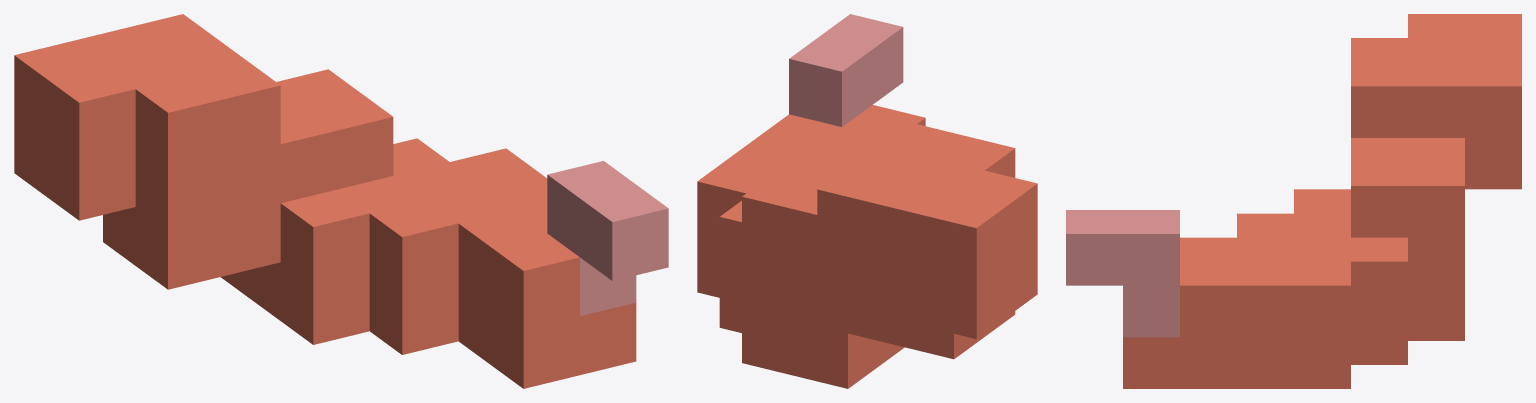
The model's file is octopus__arm_2.glb.
3 views of the same model, side by side, from view 1: azimuth 30°, elevation 25°; view 2: azimuth 150°, elevation 25°; view 3: azimuth 270°, elevation 25° (orthographic). The views are drawn at different scales.
Parts seen in each view (by area): view 1: octopus__arm_2; view 2: octopus__arm_2; view 3: octopus__arm_2.
Part boxes in pixels (left/top/right/bottom): octopus__arm_2: left=14, top=14, right=668, bottom=388; octopus__arm_2: left=697, top=14, right=1037, bottom=388; octopus__arm_2: left=1066, top=14, right=1521, bottom=388.
Bounding box in the file's own units: 0.7 × 0.4 × 0.8.
Materials: 1 (1 with a texture image).
